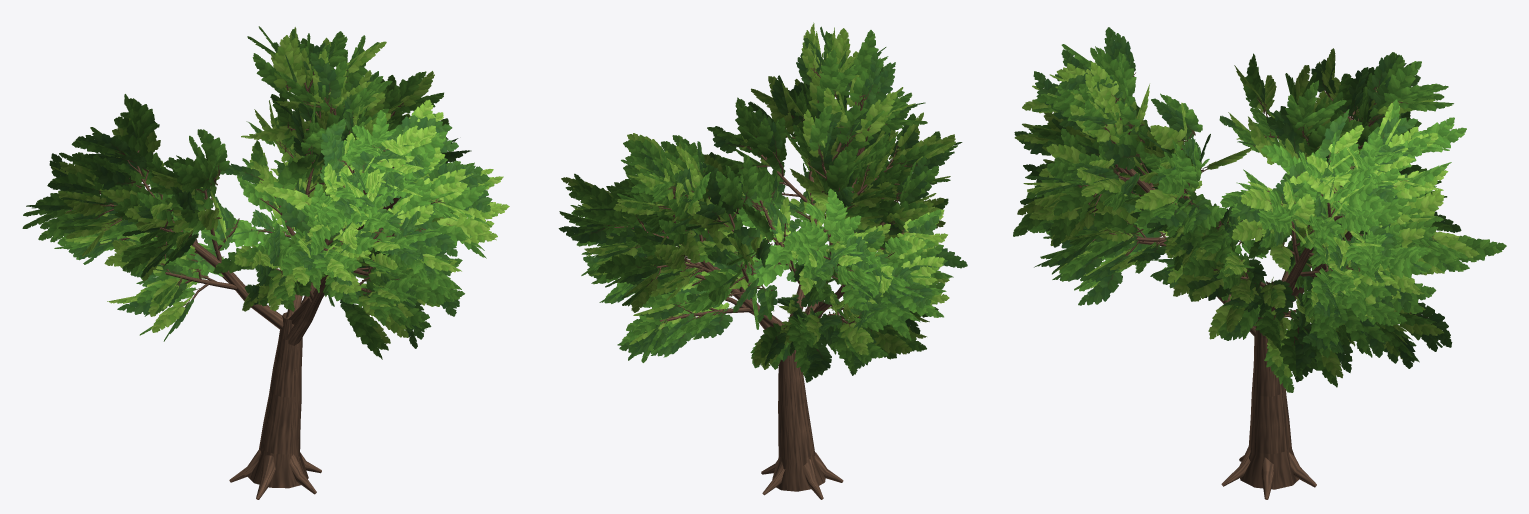
The model's file is SM_Tree_Oak.obj.
3 renders of one model, left to right at view 1: azimuth 30°, elevation 25°; view 2: azimuth 150°, elevation 25°; view 3: azimuth 270°, elevation 25°, orthographic. The views are drawn at different scales.
Parts seen in each view (by area): view 1: SM_Tree_Oak; view 2: SM_Tree_Oak; view 3: SM_Tree_Oak.
Boxes of the visible parts, box(x1,y1,x2,y2) form: SM_Tree_Oak: box(22, 26, 509, 499); SM_Tree_Oak: box(558, 22, 967, 499); SM_Tree_Oak: box(1013, 27, 1506, 499).
Bounding box in the file's own units: 6.59 × 6.37 × 6.36.
2 materials, 2 textured.
